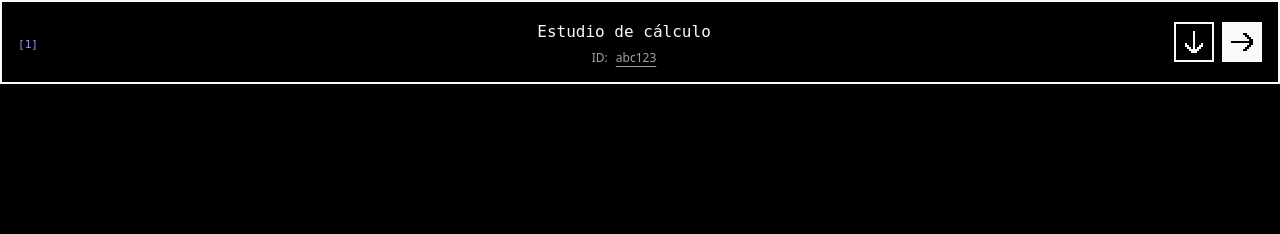
Test: TarjetaSala › el detalle empieza plegado y se despliega con su botón
Step 1. Click the button named "detalles de la sala" → (1194, 42), box top-left (1174, 22), bottom-right (1214, 62)
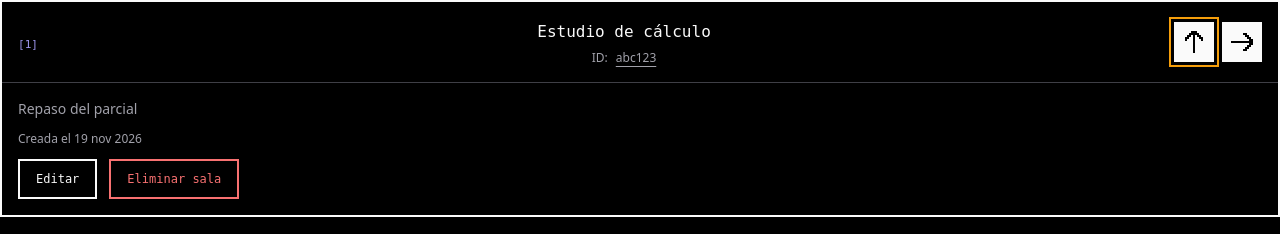
Expected: the text "Repaso del parcial" is shown, top-left (18, 99), bottom-right (137, 118)
Result: the button named "detalles de la sala" is expanded at top-left (1174, 22), bottom-right (1214, 62)
